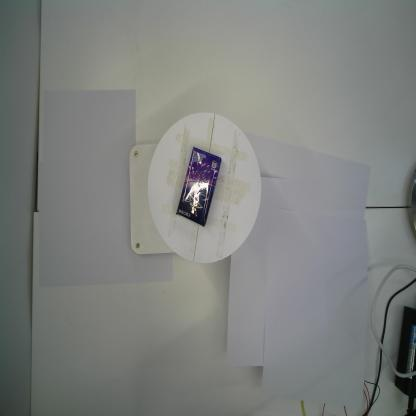Gum: (175, 146, 222, 228)
